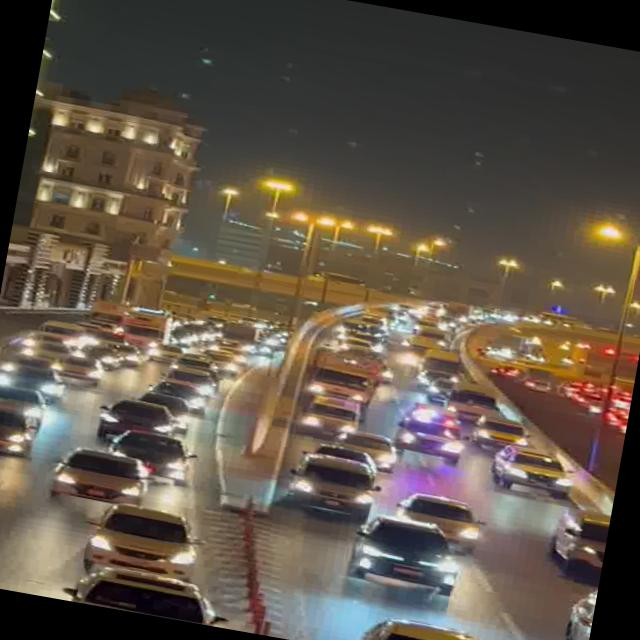ambulance: (397, 399, 468, 462)
